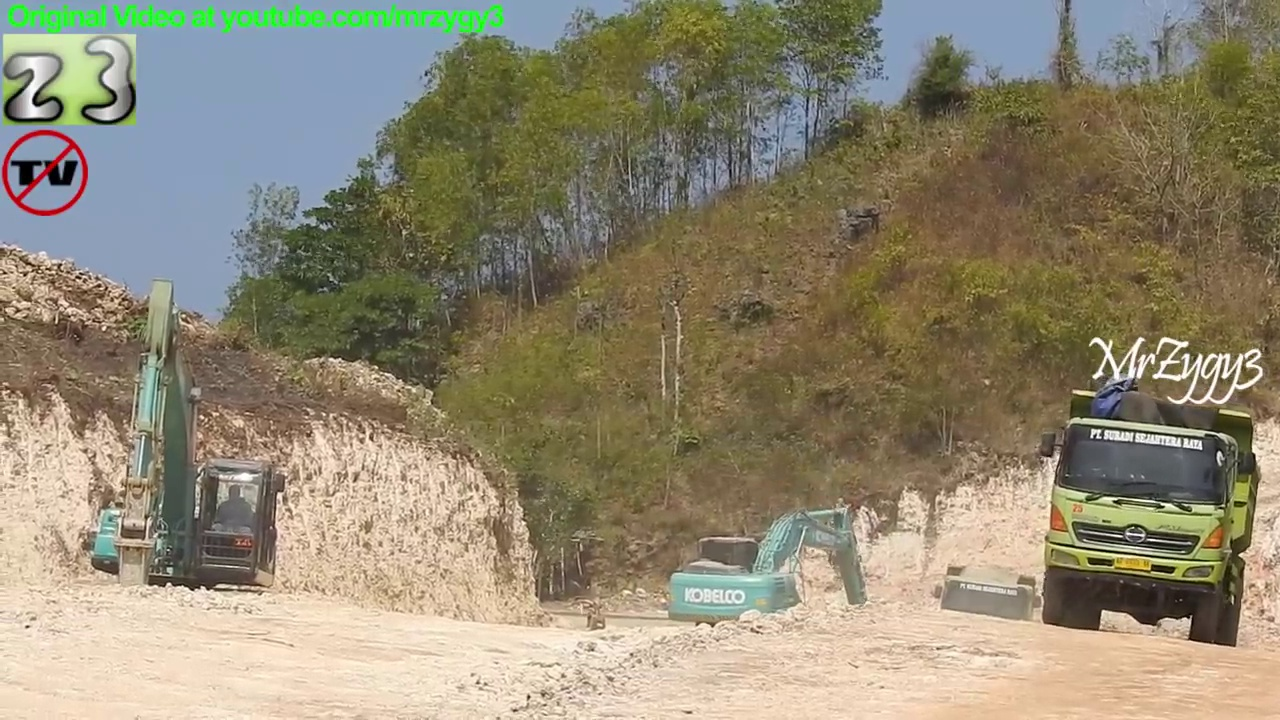excavator: (84, 276, 292, 634), (661, 500, 881, 665)
truck: (1034, 382, 1265, 652), (929, 559, 1048, 675)
